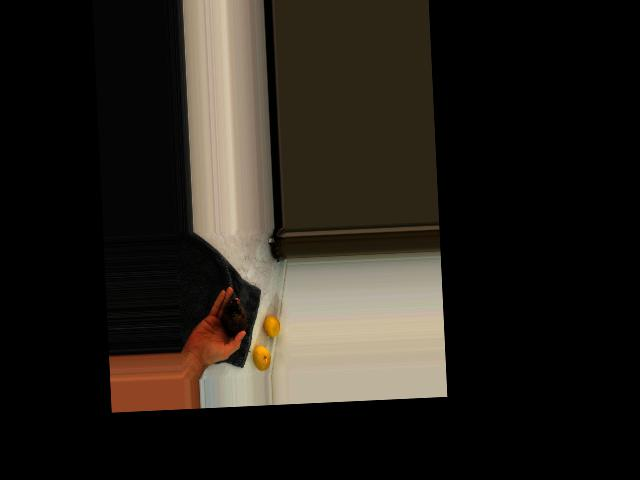beet: (220, 299, 251, 353)
